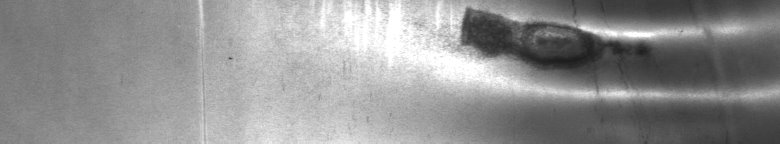ke: (361, 4, 776, 112)
